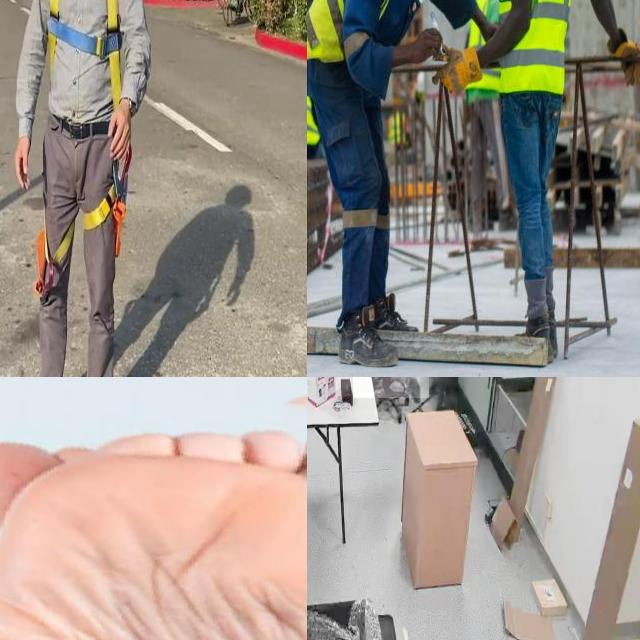Barefoots: (0, 377, 307, 640)
Harness: (35, 155, 132, 304), (48, 0, 123, 104)
boots: (333, 315, 400, 369), (374, 290, 414, 337), (522, 308, 552, 369)
hand_glove: (436, 42, 484, 99), (606, 23, 640, 90)
person: (307, 0, 469, 377), (469, 0, 621, 366)
vest: (498, 0, 581, 96), (307, 0, 396, 65), (307, 64, 322, 151)
